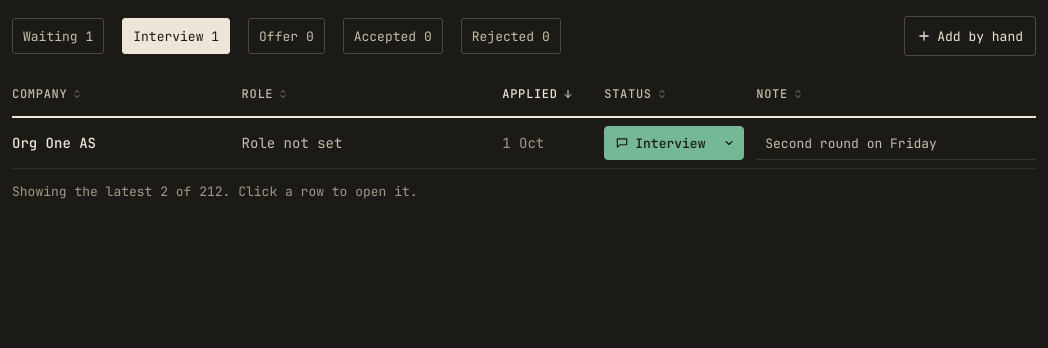
Test: ApplicationsPage › should keep the status filter when the machine refuses the application
Click the button "Add by hand" at (970, 36), box [904,16,1036,56]
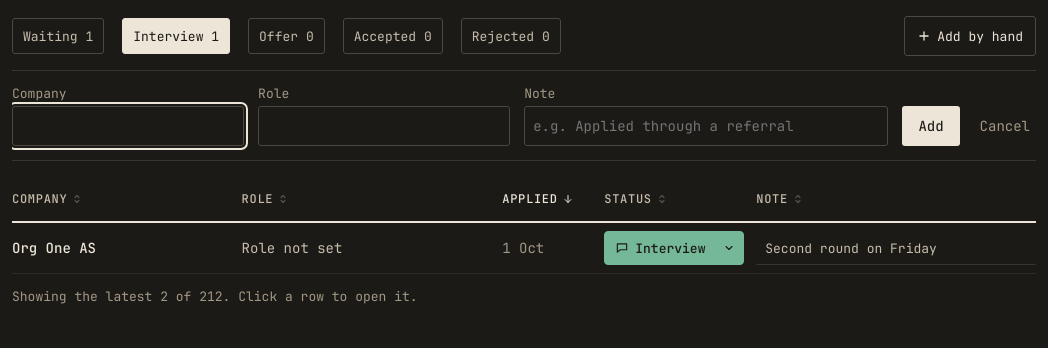
Type "Org Three AS" into the field labelled "Company" at (128, 126), box [12,106,244,146]
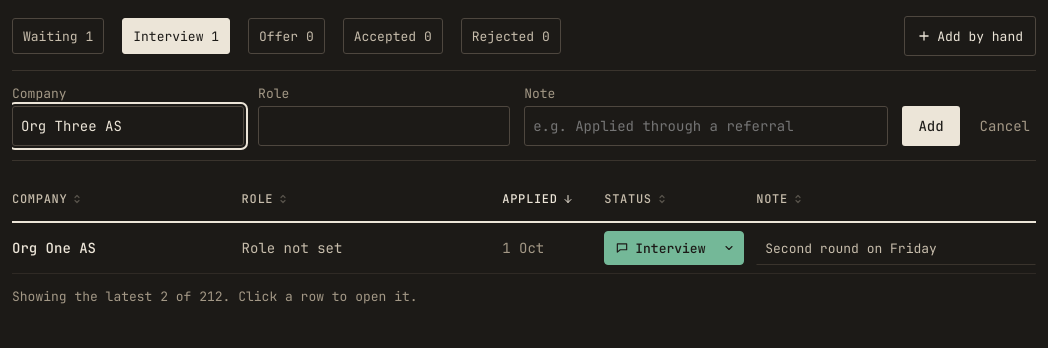
Click the button "Add" at (931, 126), box [902,106,960,146]
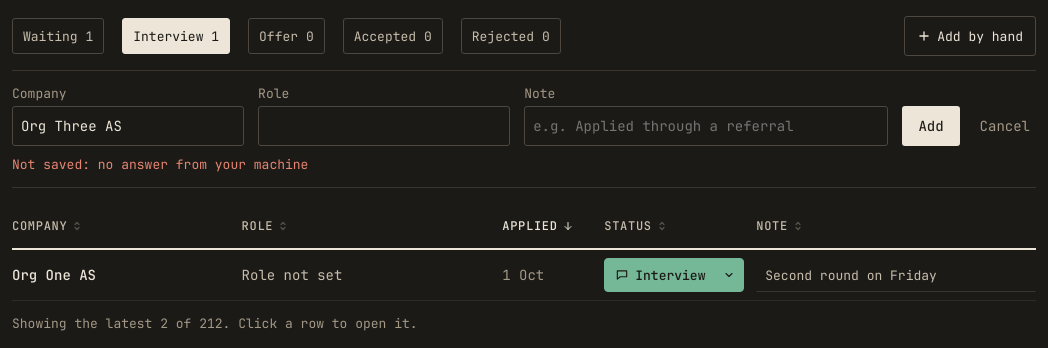
Expected: the message shows "Not saved", [12,156,308,173]
